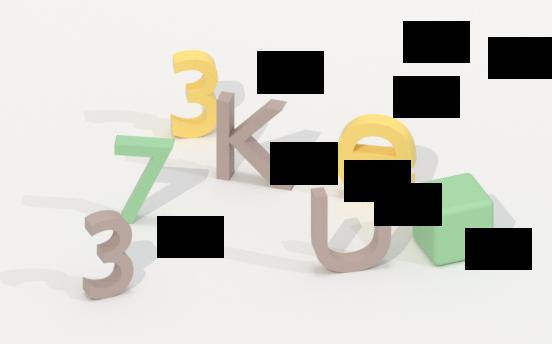3: (81, 208, 135, 302), (169, 47, 220, 145)
7: (112, 131, 175, 223)
e: (332, 109, 417, 205)
hop: (410, 169, 499, 270)
k: (212, 86, 299, 203)
u: (306, 176, 397, 274)
